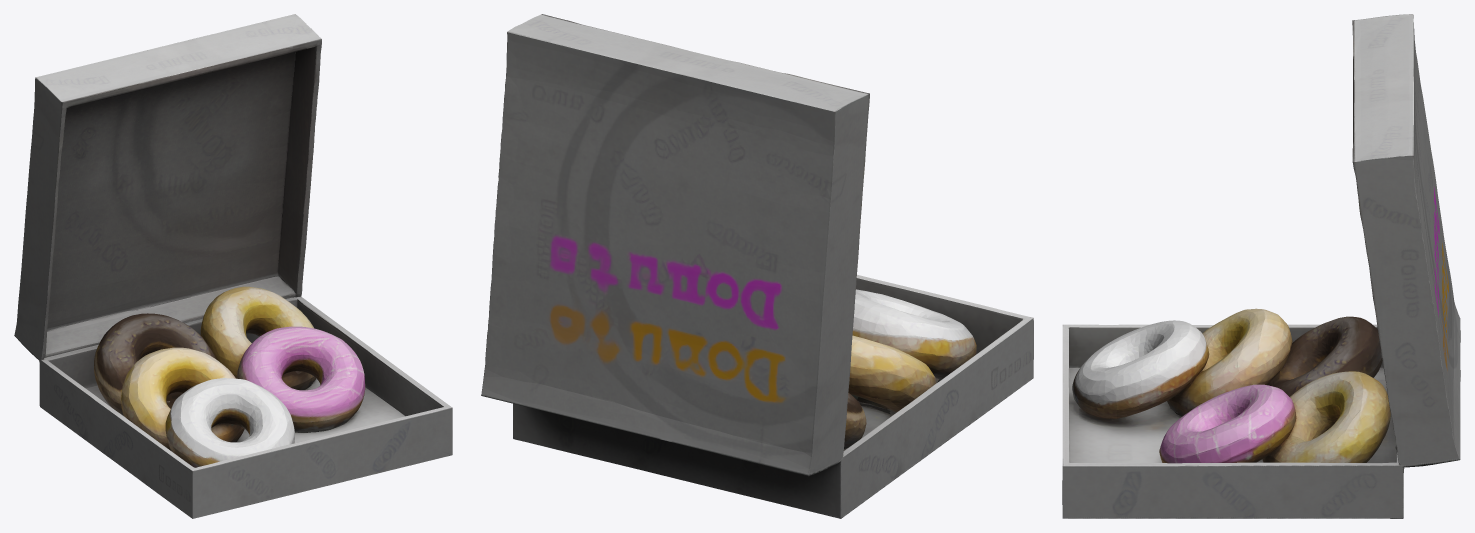
The model's file is condition.glb.
3 renders of one model, left to right at view 1: azimuth 30°, elevation 25°; view 2: azimuth 150°, elevation 25°; view 3: azimuth 270°, elevation 25°, orthographic. The views are drawn at different scales.
Visible parts, largest first — view 1: world; view 2: world; view 3: world.
Part boxes in pixels (<box>): world: <box>14,14,452,518</box>; world: <box>481,14,1033,518</box>; world: <box>1062,14,1460,518</box>.
Size of the model in its own units: 0.8298 by 0.9942 by 0.9853.
1 material, 1 textured.
